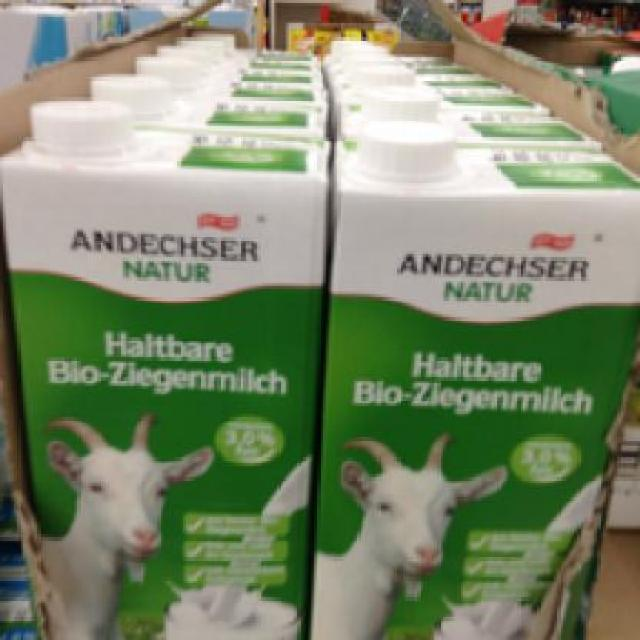Milk: (2, 88, 315, 638), (320, 114, 626, 637)
